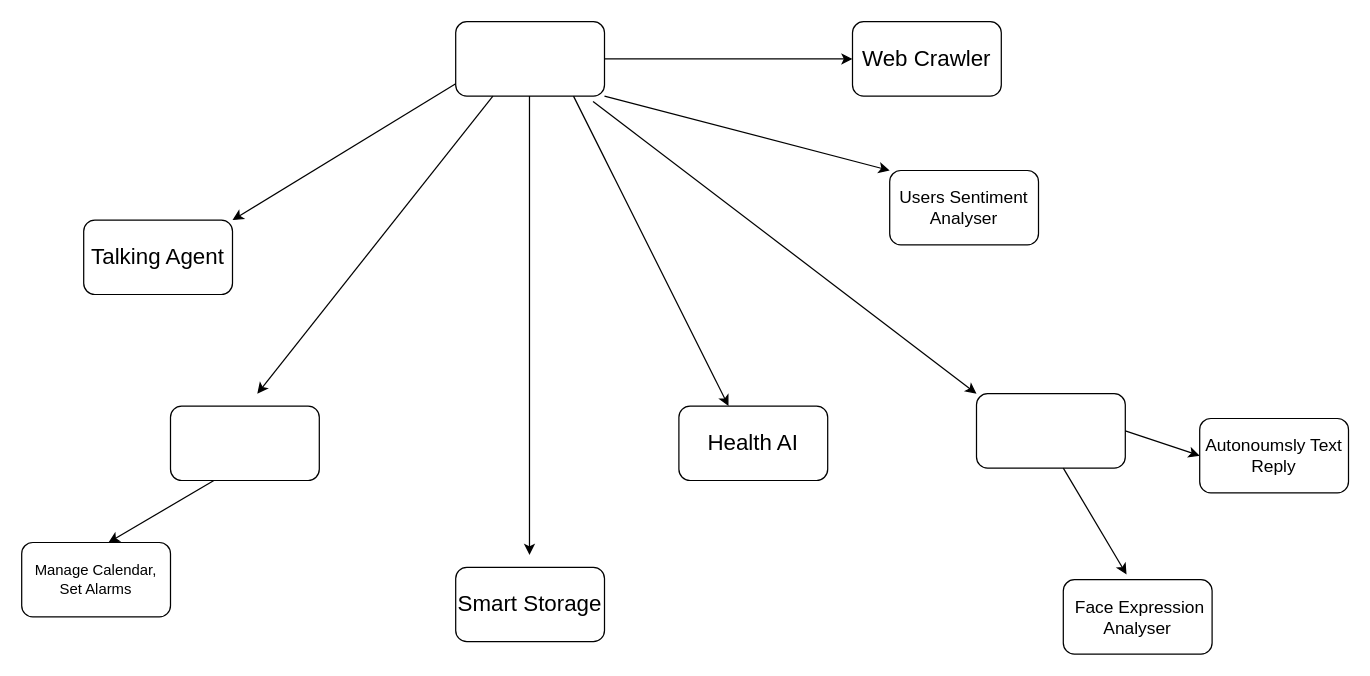
The diagram is 1370 pixels wide and 676 high, and some of its shapes have lost their labels. The centre of each missing label's shape, as x and y in pixels:
"Communication AI" belongs at point (1050, 430).
"Master AI" belongs at point (529, 58).
"Reminder AI" belongs at point (244, 442).
